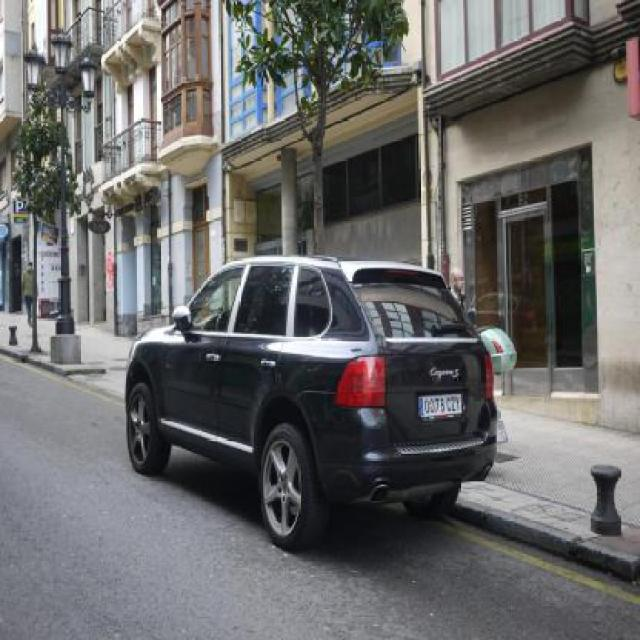License-Plates: (414, 387, 468, 425)
